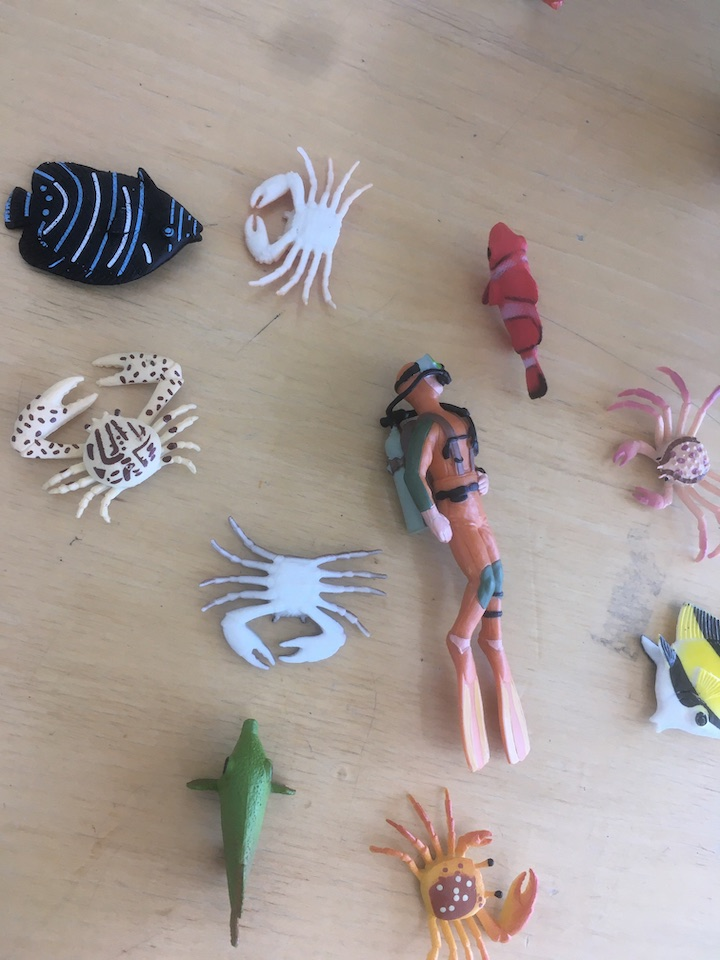crab: (9, 344, 206, 530), (191, 507, 390, 670), (359, 786, 543, 960), (600, 363, 720, 567), (236, 138, 372, 317)
danger: (633, 598, 720, 740)
diver: (372, 349, 541, 779)
fish: (9, 149, 209, 294), (184, 713, 297, 946)
